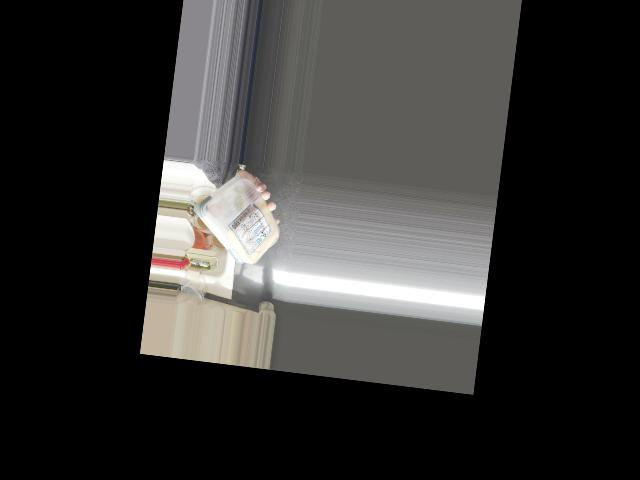cheese: (200, 172, 280, 267)
